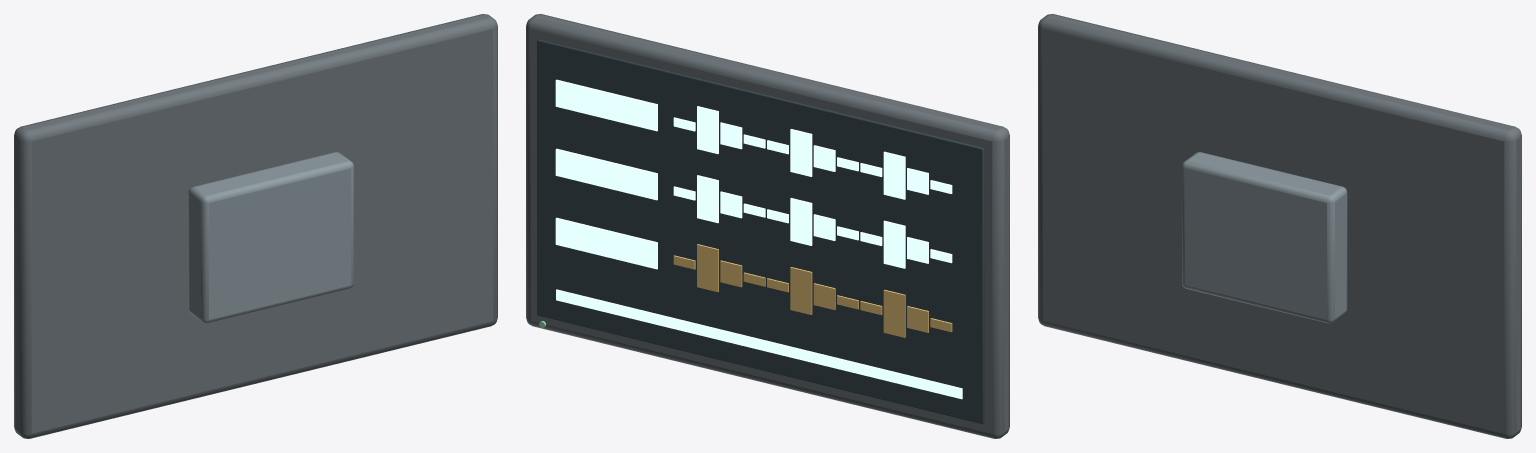
The model's file is crew_vitals_monitor.glb.
The picture shows the model from 3 angles, left to right: view 1: azimuth 30°, elevation 25°; view 2: azimuth 150°, elevation 25°; view 3: azimuth 330°, elevation 25°; orthographic projection.
Parts seen in each view (by area): view 1: bezel_graphite, bracket_dark_alloy; view 2: screen_dark_glass, bezel_graphite, readouts_screen_cyan, trace_amber, trace_screen_cyan, trace_screen_green, footer_bar_screen_cyan; view 3: bezel_graphite, bracket_dark_alloy.
Part boxes in pixels (x1,y1,x2,y2): bezel_graphite: (14, 14, 497, 438); bracket_dark_alloy: (188, 152, 353, 323); screen_dark_glass: (537, 39, 984, 424); bezel_graphite: (526, 14, 1009, 438); readouts_screen_cyan: (555, 79, 657, 269); trace_amber: (673, 244, 952, 337); trace_screen_cyan: (673, 175, 952, 268); trace_screen_green: (673, 106, 952, 199); footer_bar_screen_cyan: (556, 289, 962, 399); bezel_graphite: (1038, 14, 1521, 438); bracket_dark_alloy: (1182, 152, 1347, 323).
Bounding box in the file's own units: 0.94 × 0.58 × 0.114.
